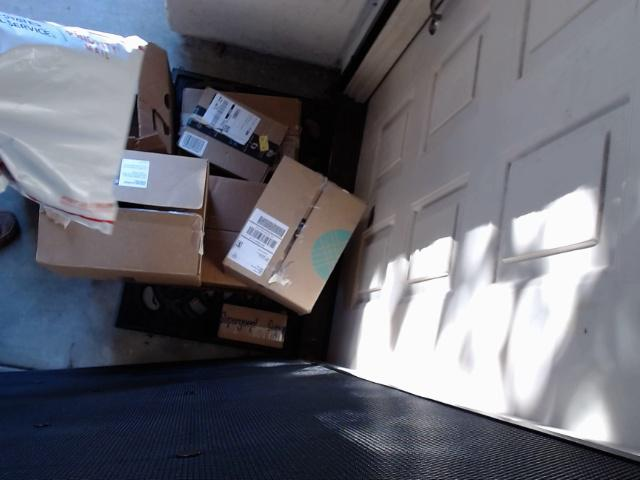box: (18, 141, 211, 294), (224, 159, 378, 316), (176, 68, 314, 196), (196, 279, 293, 357)
plastic_bag: (3, 4, 158, 239)
